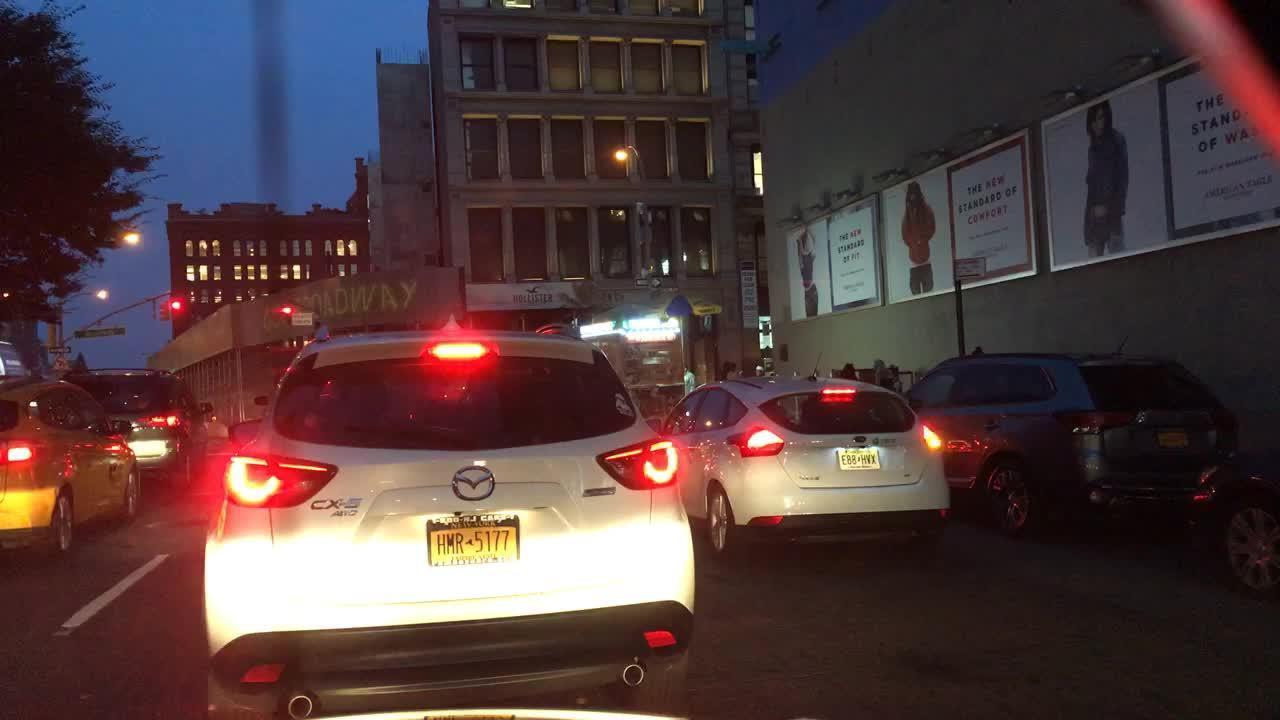Mazda: (445, 456, 504, 506)
